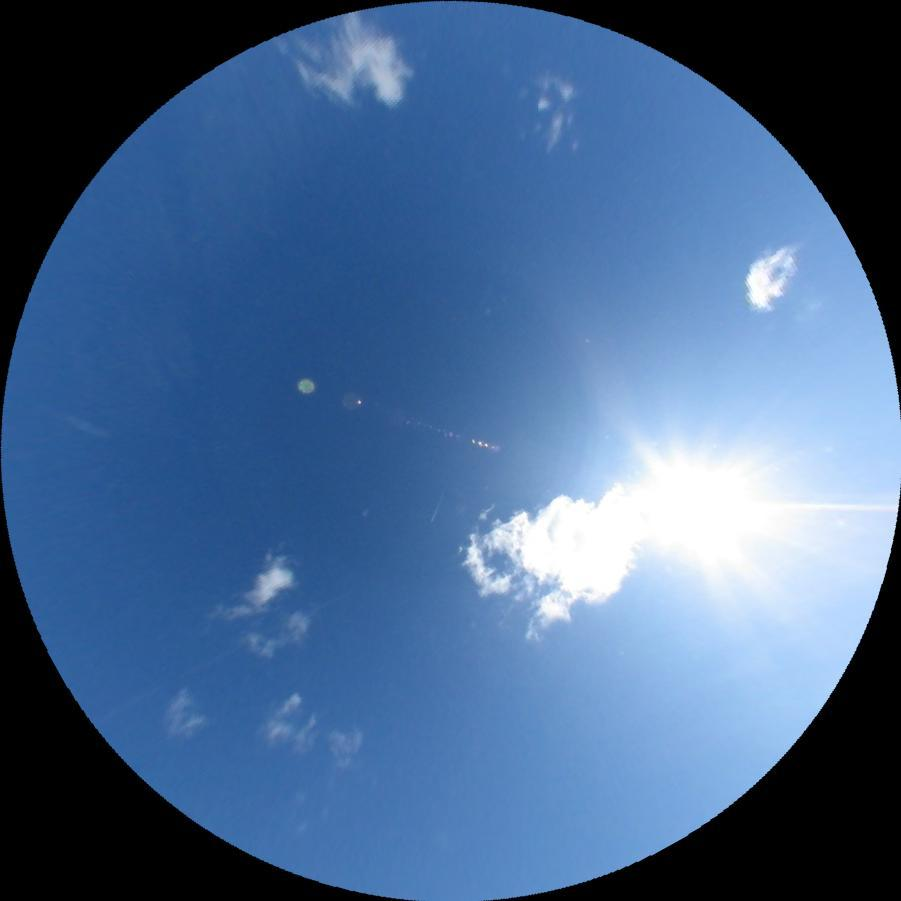contrail young: (428, 489, 447, 523)
parasite: (89, 582, 354, 727), (755, 502, 897, 511)
sun: (616, 440, 771, 574)
unknow: (60, 410, 111, 443)
